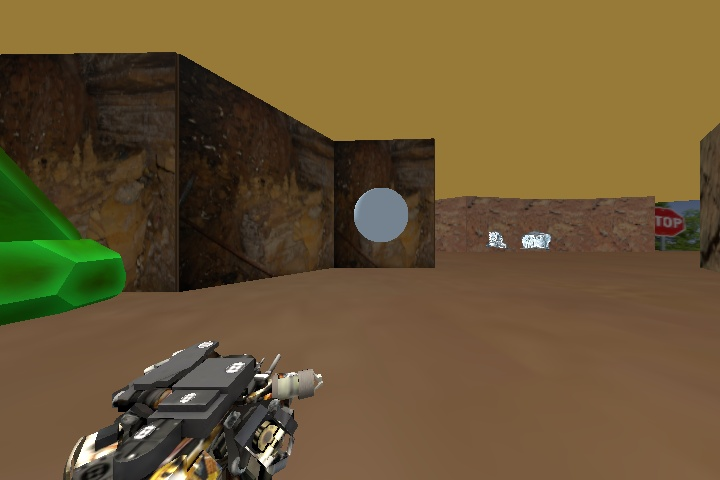gem: (0, 149, 128, 326)
minerals: (523, 231, 552, 251), (486, 230, 507, 248)
sign: (652, 207, 686, 237)
sphere: (351, 187, 409, 242)
